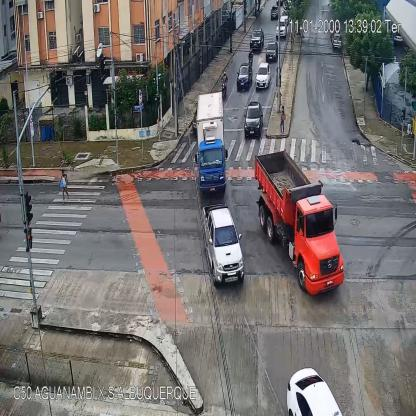car: (201, 203, 244, 285), (287, 368, 342, 416), (236, 64, 252, 90), (256, 63, 270, 88), (265, 38, 279, 63), (250, 30, 264, 51), (276, 17, 288, 38), (332, 32, 341, 50), (270, 5, 277, 20)
motorbike: (222, 72, 228, 96), (248, 48, 253, 68)
person: (60, 170, 69, 205), (280, 105, 286, 134)
truck: (254, 148, 344, 296), (196, 92, 228, 193)
